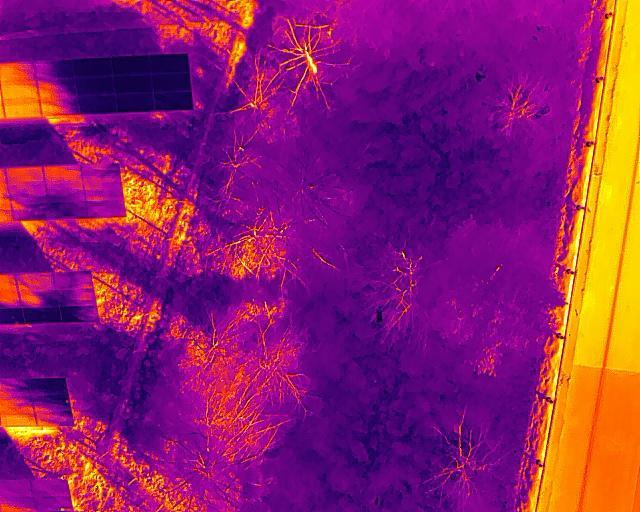No-Anomaly: (2, 98, 40, 119), (0, 82, 37, 99)
Shadowing: (37, 57, 76, 79), (37, 77, 77, 97), (112, 55, 152, 75), (119, 92, 157, 113), (80, 94, 118, 115), (84, 180, 122, 201), (49, 199, 87, 220), (46, 180, 84, 201), (76, 75, 115, 95), (40, 96, 81, 115), (155, 90, 192, 111), (12, 200, 49, 221), (7, 182, 47, 201), (15, 270, 54, 289), (81, 163, 120, 182), (116, 72, 153, 92), (6, 165, 44, 184), (18, 288, 58, 306), (0, 63, 37, 82), (57, 289, 96, 307), (75, 58, 111, 77), (154, 70, 190, 89), (44, 165, 82, 183), (56, 270, 91, 289), (32, 495, 71, 512), (87, 199, 123, 217), (153, 52, 187, 71), (30, 480, 68, 497), (32, 393, 69, 410), (23, 306, 60, 323), (35, 410, 73, 426), (29, 377, 65, 393), (60, 308, 96, 323)
